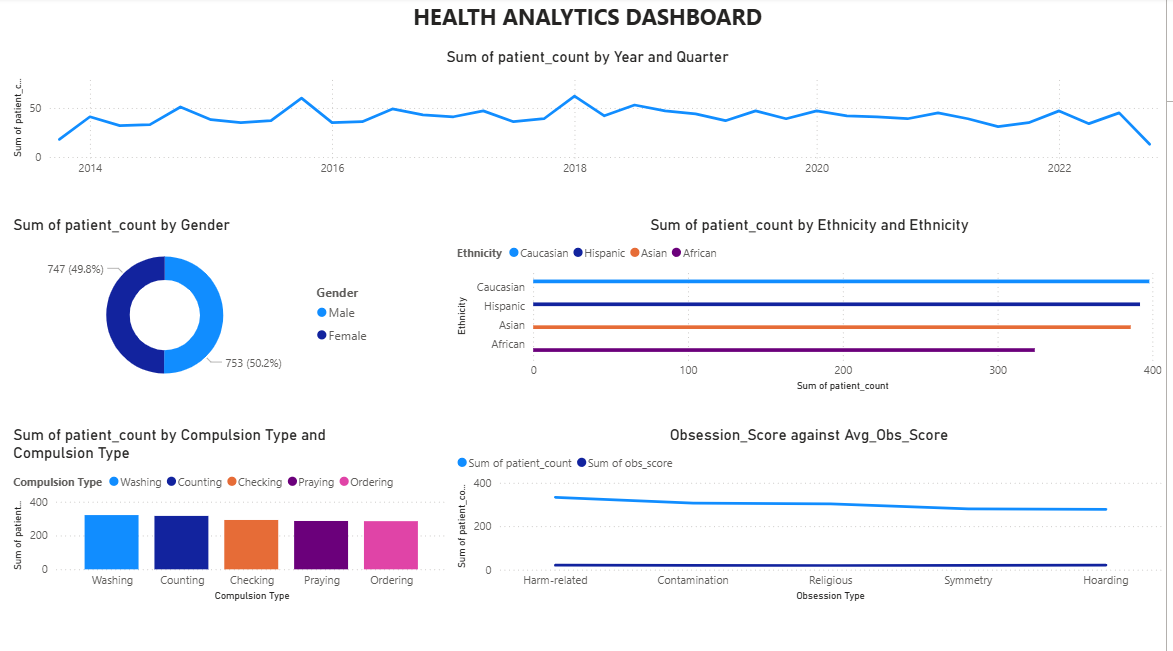

What the dashboard file says about the page in this screenshot:
{"tool":"powerbi","page":{"name":"Page 1","canvas":[1280,720],"ordinal":0},"visuals":[{"type":"textbox","box":[9.6,0,1270.7,45.3],"z":0},{"type":"lineChart","fields":{"Category":["diagnosis mom.month.Variation.Date Hierarchy.Year","diagnosis mom.month.Variation.Date Hierarchy.Quarter"],"Y":["Sum(diagnosis mom.patient_count)"]},"box":[9.6,54.9,1270.7,150.9],"z":1000},{"type":"donutChart","fields":{"Category":["gender.Gender"],"Y":["Sum(gender.patient_count)"]},"box":[9.6,240.1,408.9,197.6],"z":2000},{"type":"clusteredBarChart","fields":{"Category":["ethnicity.Ethnicity"],"Y":["Sum(ethnicity.patient_count)"],"Series":["ethnicity.Ethnicity"]},"box":[496.7,240.1,783.5,197.6],"z":3000},{"type":"columnChart","fields":{"Category":["comp_type.Compulsion Type"],"Y":["Sum(comp_type.patient_count)"],"Series":["comp_type.Compulsion Type"]},"box":[9.6,470.7,487.1,197.6],"z":4000},{"type":"lineChart","title":"Obsession_Score against Avg_Obs_Score","fields":{"Category":["obs_type.Obsession Type"],"Y":["Sum(obs_type.patient_count)","Sum(obs_type.obs_score)"]},"box":[497,471,783,198],"z":5000}]}

Visuals, with their boxes in screenshot pixels (x1, y1, x2, y2), scaled from the page's 1280x720 canvas onto the 1173x651 screenshot:
textbox: [x1=9, y1=0, x2=1172, y2=41]
lineChart - diagnosis mom.month.Variation.Date Hierarchy.Year x diagnosis mom.month.Variation.Date Hierarchy.Quarter: [x1=9, y1=50, x2=1172, y2=186]
donutChart - gender.Gender x Sum(gender.patient_count): [x1=9, y1=217, x2=384, y2=396]
clusteredBarChart - ethnicity.Ethnicity x Sum(ethnicity.patient_count): [x1=455, y1=217, x2=1172, y2=396]
columnChart - comp_type.Compulsion Type x Sum(comp_type.patient_count): [x1=9, y1=426, x2=455, y2=604]
"Obsession_Score against Avg_Obs_Score" lineChart: [x1=455, y1=426, x2=1172, y2=605]
